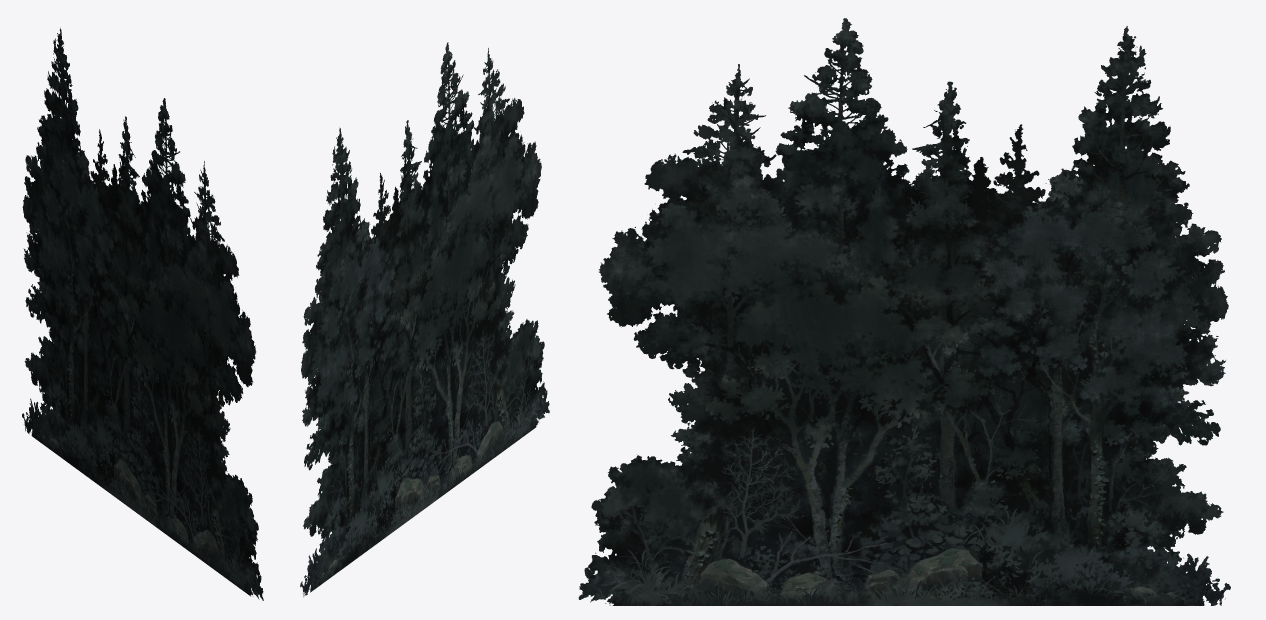
The model's file is Trees_Far1.fbx.
3 views of the same model, side by side, from view 1: azimuth 30°, elevation 25°; view 2: azimuth 150°, elevation 25°; view 3: azimuth 270°, elevation 25° (orthographic). The views are drawn at different scales.
Parts seen in each view (by area): view 1: SM_d_114_Middle_01a; view 2: SM_d_114_Middle_01a; view 3: SM_d_114_Middle_01a.
Boxes of the visible parts, box(x1,y1,x2,y2) form: SM_d_114_Middle_01a: box(22, 27, 263, 600); SM_d_114_Middle_01a: box(300, 42, 549, 596); SM_d_114_Middle_01a: box(578, 18, 1230, 605).
Size of the model in its own units: 0 by 1940 by 2000.
